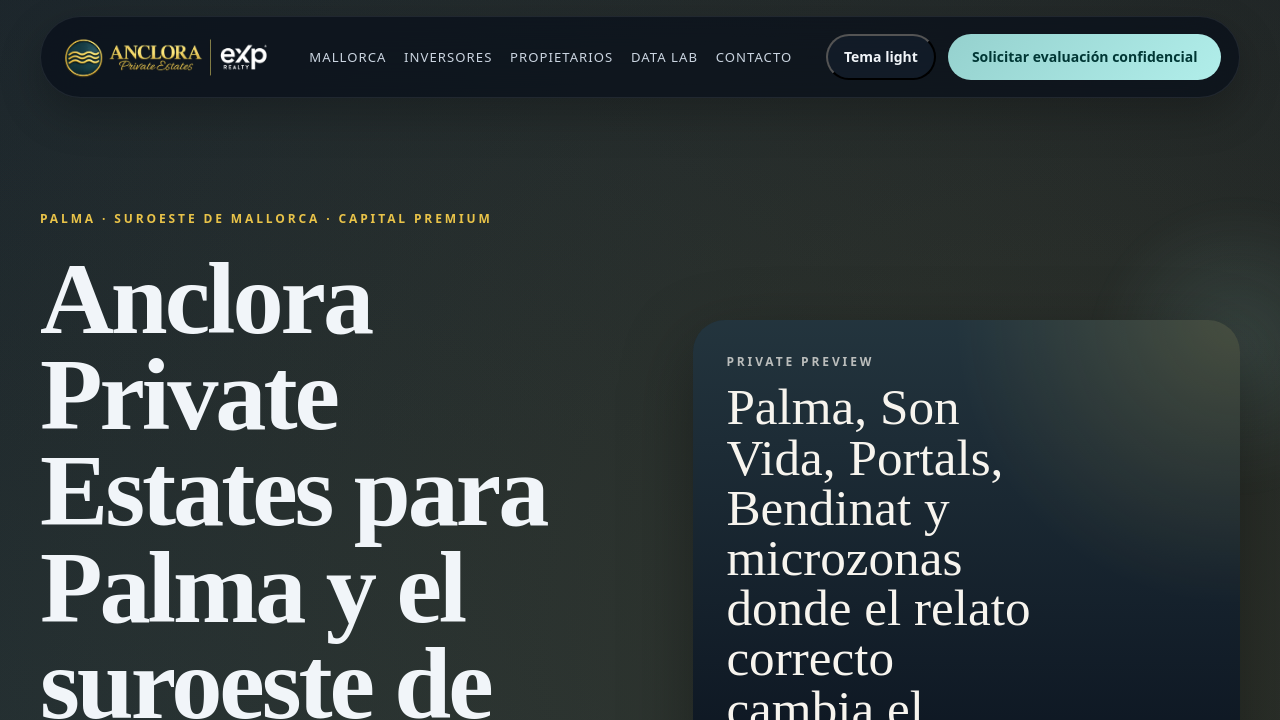
Scenario: App landing home › exposes a visible theme toggle that switches the landing root between dark and light
Click the button "Tema light" at (881, 57), box [826, 34, 936, 80]
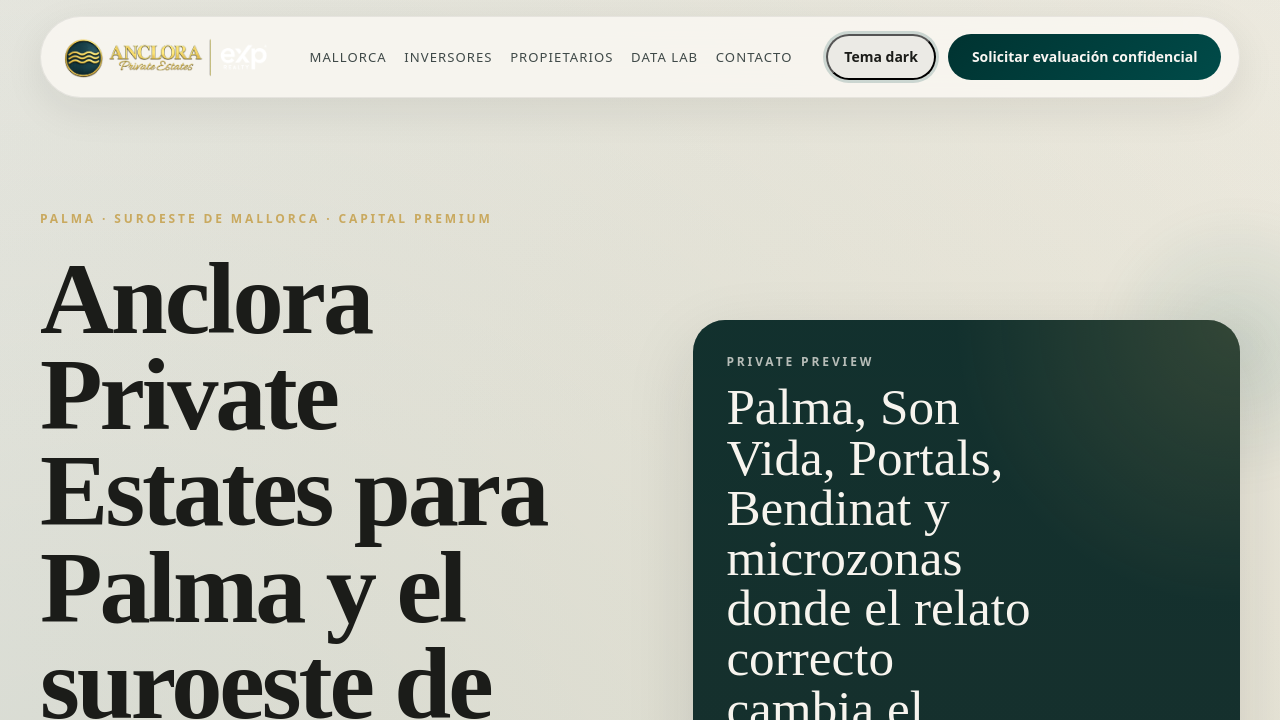
Result: the button "Tema dark" is shown at [826, 34, 936, 80]
